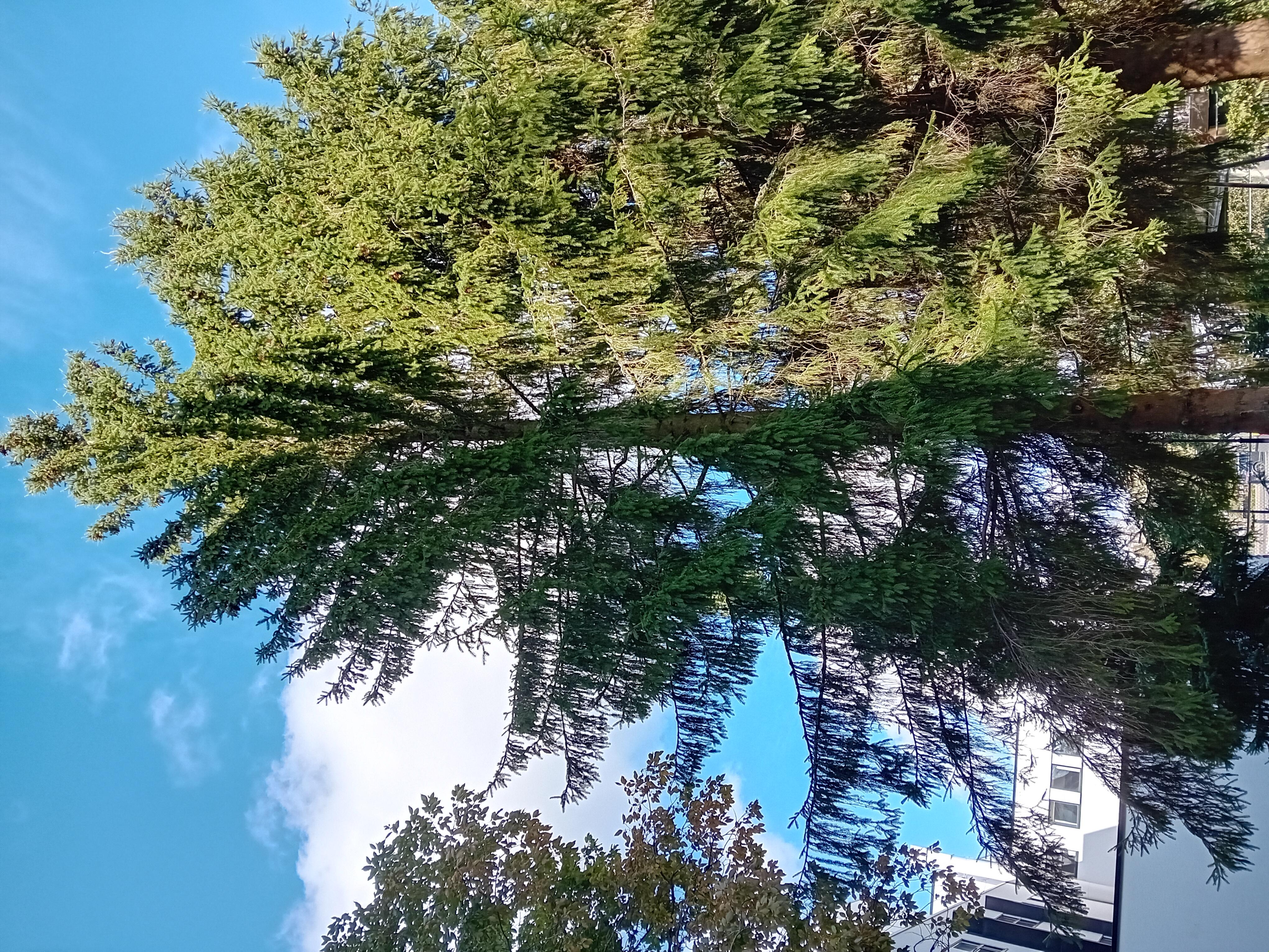Spruce: (245, 0, 864, 952)
